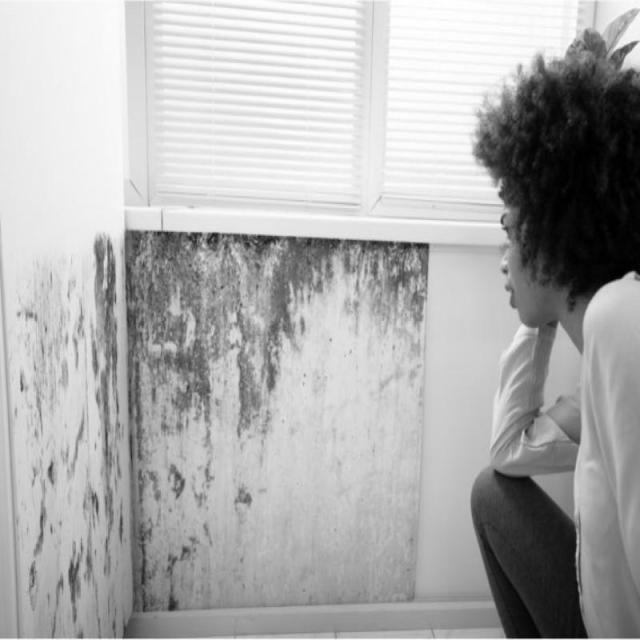stain marks: (0, 224, 430, 640)
